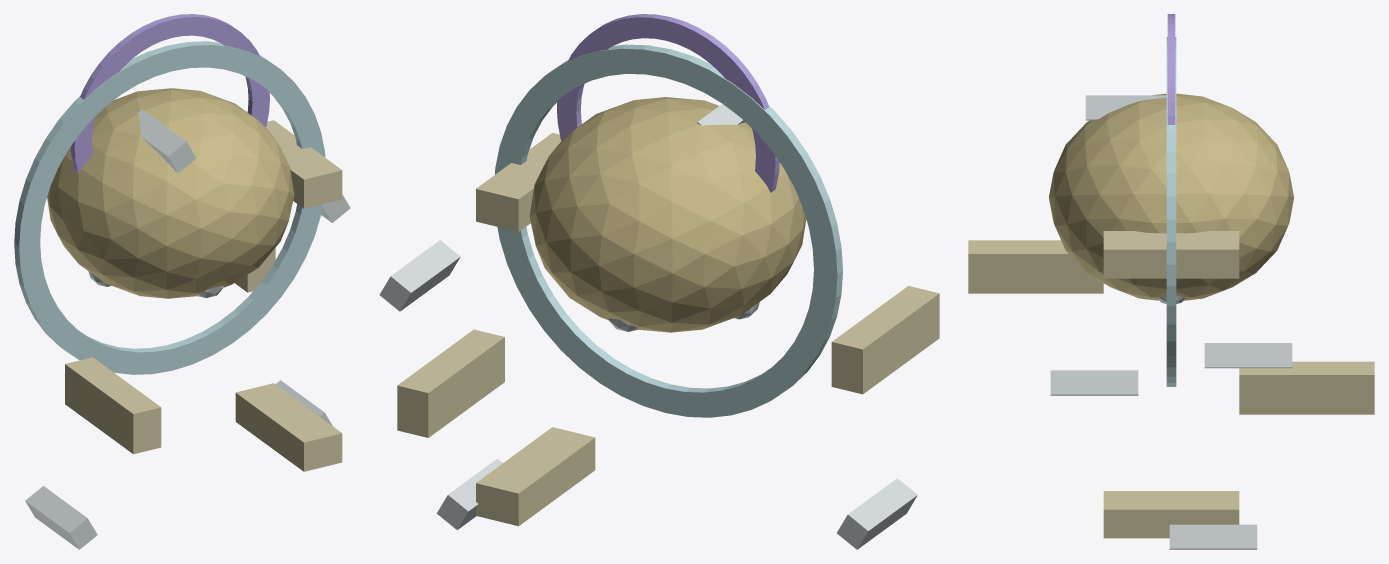
File: helias_prism_warden.glb
3 renders of one model, left to right at view 1: azimuth 30°, elevation 25°; view 2: azimuth 150°, elevation 25°; view 3: azimuth 270°, elevation 25°, orthographic. The views are drawn at different scales.
Visible parts, largest first — view 1: shell, lower_ring, fin_157, fin_314, upper_ring, fin_0, prism_157, prism_0, fin_471, prism_471, prism_314; view 2: shell, lower_ring, fin_157, fin_471, fin_314, upper_ring, fin_0, prism_157, prism_471, prism_314; view 3: shell, fin_471, fin_157, fin_0, fin_314, lower_ring, prism_157, prism_314, prism_471, prism_0, upper_ring.
Boxes of the visible parts, x1,y1,x2,y2 form: shell: (47,88,294,298); lower_ring: (14,41,325,374); fin_157: (65,357,161,454); fin_314: (235,383,342,471); upper_ring: (70,14,269,173); fin_0: (266,120,342,208); prism_157: (25,486,97,549); prism_0: (137,109,196,173); fin_471: (235,248,275,292); prism_471: (321,194,350,222); prism_314: (275,380,332,425); shell: (529,97,806,332); lower_ring: (495,44,842,417); fin_157: (831,286,939,394); fin_471: (397,329,504,437); fin_314: (476,427,595,526); upper_ring: (557,14,779,192); fin_0: (476,133,561,231); prism_157: (837,478,917,549); prism_471: (379,240,460,311); prism_314: (437,458,502,529); shell: (1049,93,1293,300); fin_471: (1239,361,1374,414); fin_157: (968,240,1103,293); fin_0: (1103,231,1239,278); fin_314: (1103,491,1239,538); lower_ring: (1166,37,1176,386); prism_157: (1050,370,1138,395); prism_314: (1169,524,1257,549); prism_471: (1204,343,1292,368); prism_0: (1085,95,1166,120); upper_ring: (1167,14,1175,124).
Bounding box in the file's own units: 1.03 × 1.26 × 1.02.
